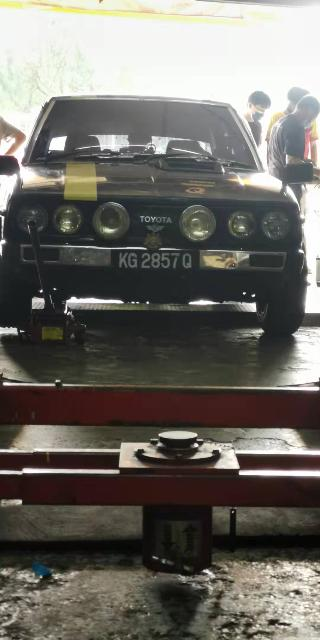License_Plate: (112, 250, 201, 274)
car: (2, 84, 319, 344)
